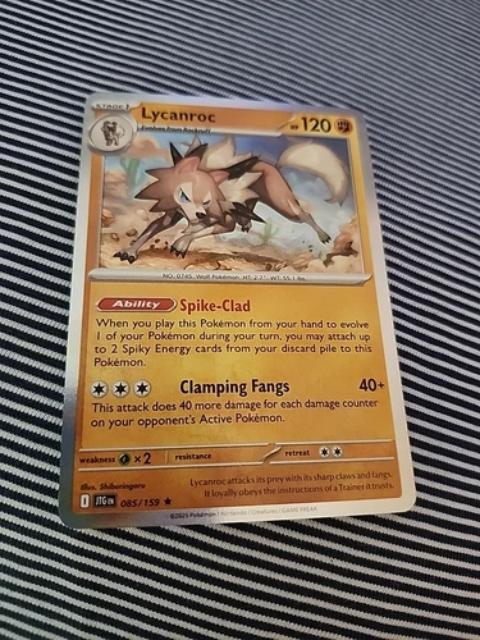Card: (55, 89, 421, 530)
Name: (136, 101, 216, 125)
